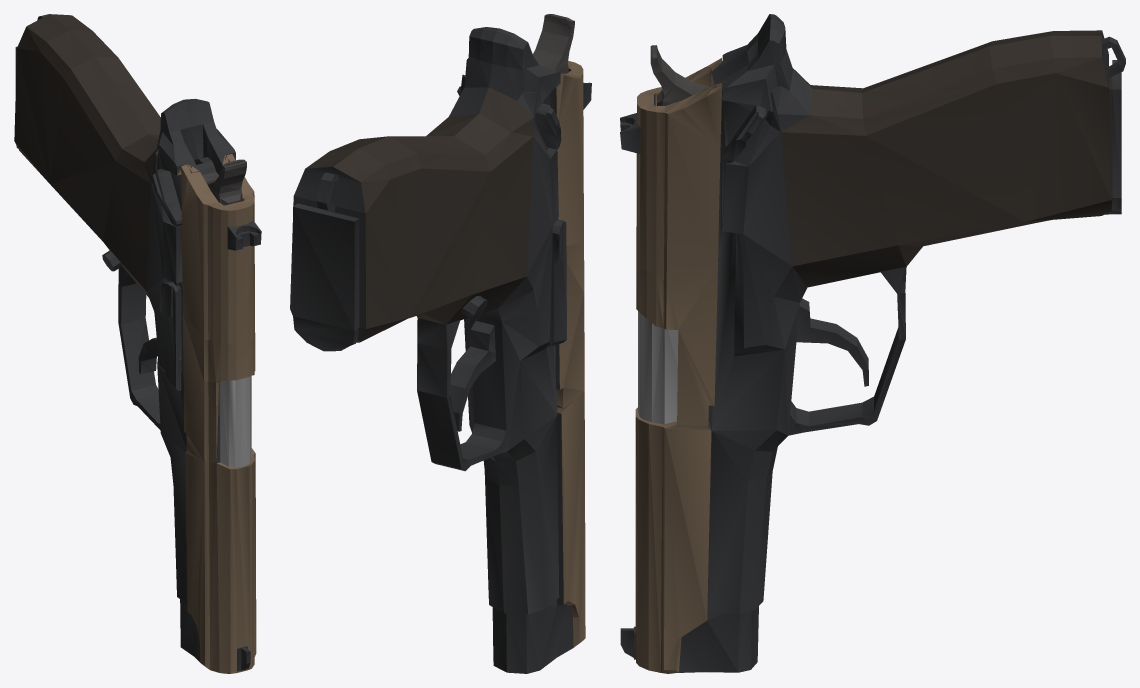
File: pistolet.fbx
The picture shows the model from 3 angles, left to right: view 1: azimuth 30°, elevation 25°; view 2: azimuth 150°, elevation 25°; view 3: azimuth 270°, elevation 25°; orthographic projection. The views are drawn at different scales.
Parts seen in each view (by area): view 1: pistolet; view 2: pistolet; view 3: pistolet.
Part boxes in pixels (box(x1,y1,x2,y2)): pistolet: box(14, 14, 261, 673); pistolet: box(290, 14, 591, 673); pistolet: box(620, 14, 1125, 673).
Bounding box in the file's own units: 0.204 × 1.35 × 0.9574.
1 material, 1 textured.
